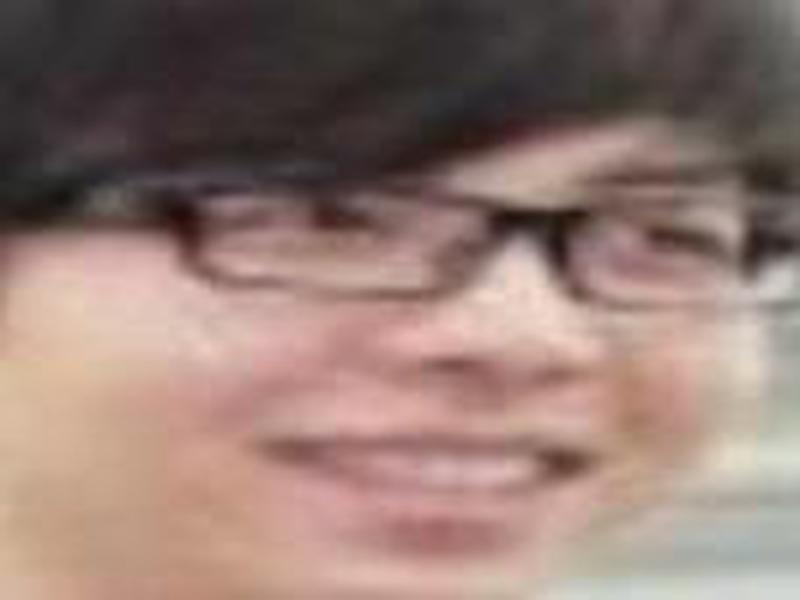without_mask: (19, 101, 759, 599)
